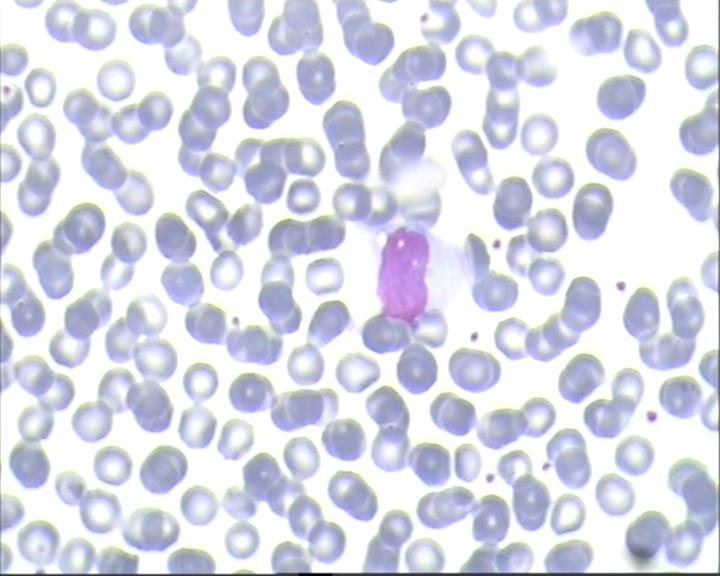mono: (367, 209, 472, 328)
